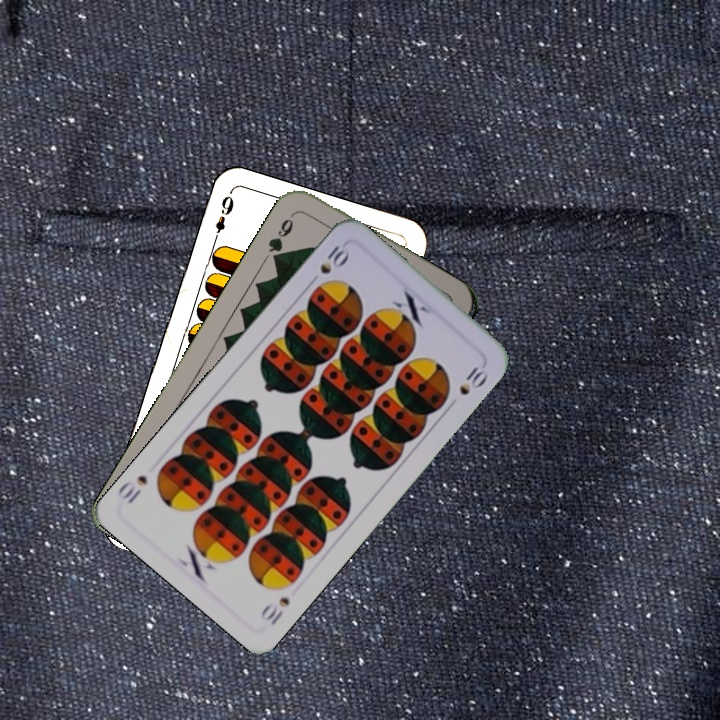E9: (209, 189, 237, 247)
G9: (264, 208, 299, 266)
S10: (305, 239, 352, 288), (256, 592, 293, 628)
